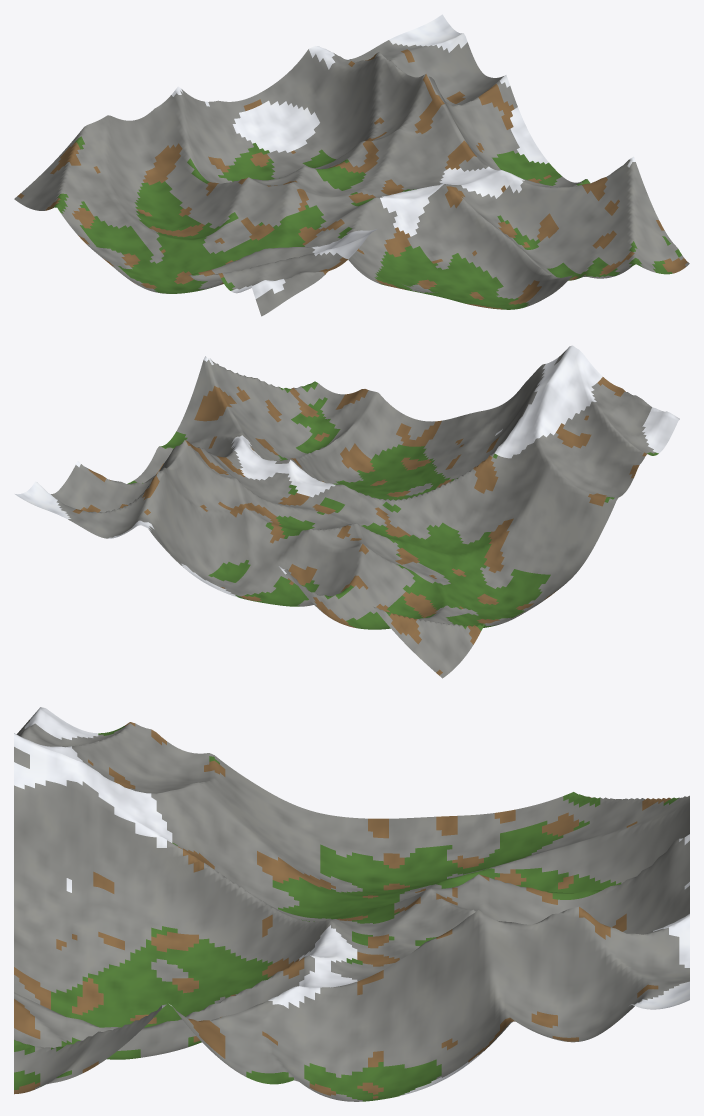
Rendered from chunk_4_1.glb.
3 views of the same model, one above another, from view 1: azimuth 30°, elevation 25°; view 2: azimuth 150°, elevation 25°; view 3: azimuth 270°, elevation 25° (orthographic). The views are drawn at different scales.
Visible parts, largest first — view 1: Surface_Gravel, Surface_Grass, Surface_Dirt, Surface_Snow; view 2: Surface_Gravel, Surface_Grass, Surface_Dirt, Surface_Snow; view 3: Surface_Gravel, Surface_Grass, Surface_Dirt, Surface_Snow.
Part boxes in pixels (x1,y1,x2,y2): Surface_Gravel: (14,40,689,316); Surface_Grass: (53,136,681,309); Surface_Dirt: (17,49,687,309); Surface_Snow: (171,14,635,298); Surface_Gravel: (51,350,655,678); Surface_Grass: (127,381,658,630); Surface_Dirt: (72,377,646,675); Surface_Snow: (15,345,679,597); Surface_Gravel: (14,719,689,1101); Surface_Grass: (14,725,678,1101); Surface_Dirt: (14,722,670,1098); Surface_Snow: (14,707,689,1095).
Size of the model in its own units: 256 by 81.29 by 256.
